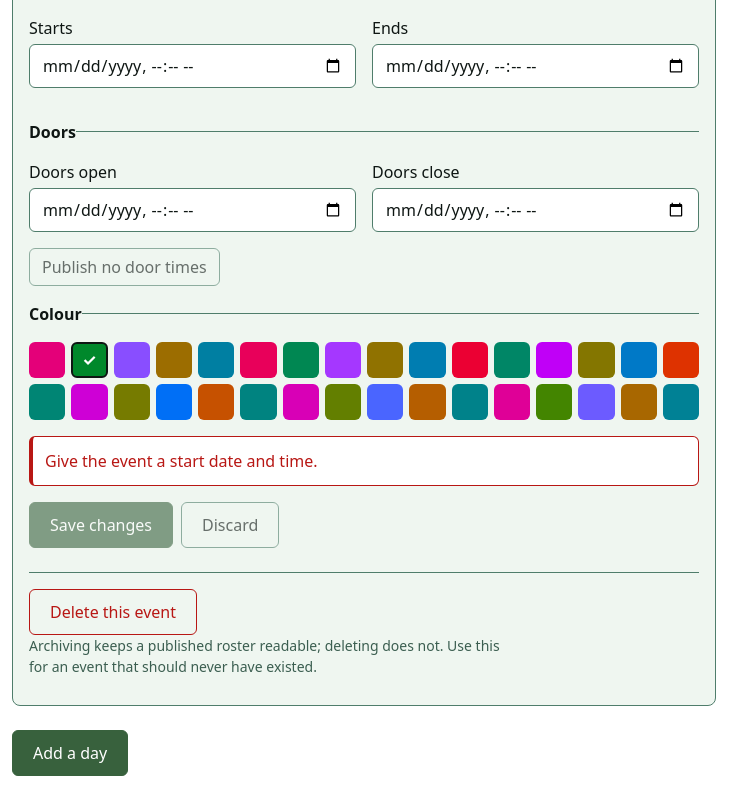
Test: adding a day from the details section › offers the form at festival scope
The width and height of the screenshot is (733, 800).
(page scrolled)
Click the button "Add a day" at [70, 753], box [12,730,128,776]
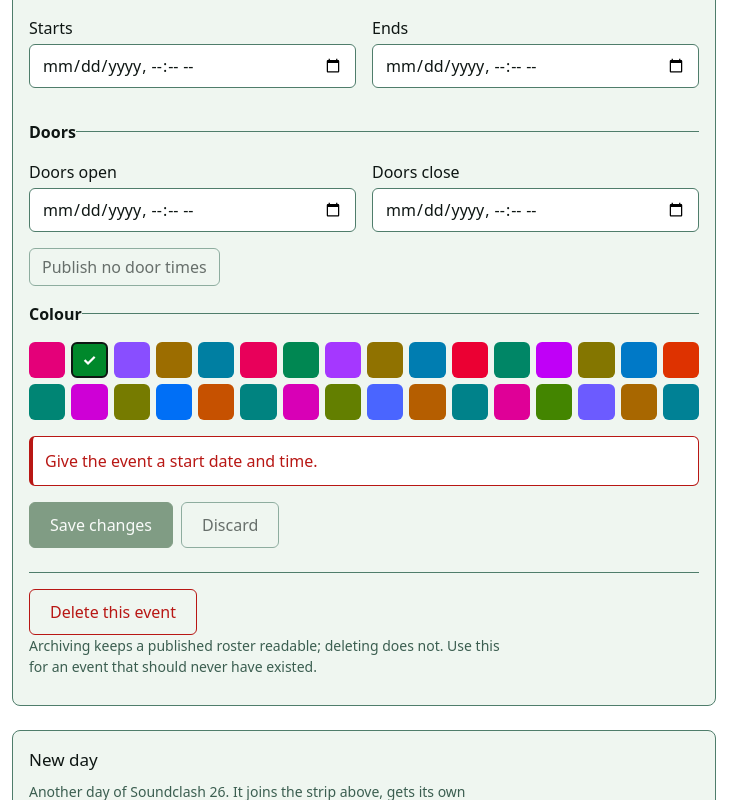
Expected: the heading "New day" is shown, [29,748,98,771]
